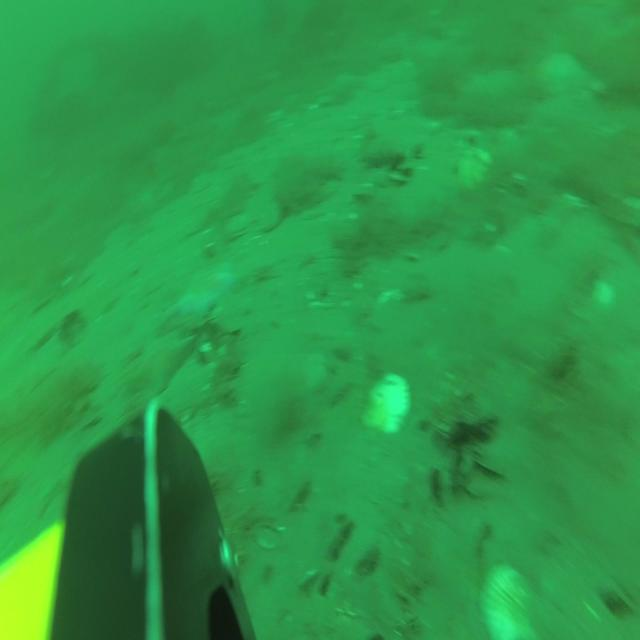scallop: (480, 562, 530, 640), (365, 376, 411, 434), (464, 146, 491, 191), (373, 292, 402, 332), (258, 200, 282, 235), (304, 355, 326, 389), (227, 213, 251, 240)
starfish: (163, 263, 238, 323), (129, 329, 194, 392), (534, 53, 590, 93)
